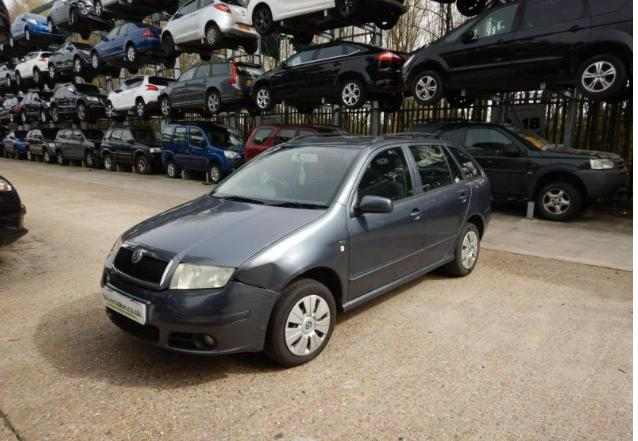Back-bumper: (481, 206, 492, 240)
Back-door: (405, 143, 472, 269)
Back-wheel: (446, 223, 480, 276)
Back-window: (408, 145, 464, 191), (448, 145, 481, 179)
Fender: (230, 201, 350, 305)
Front-bumper: (101, 266, 279, 355)
Front-door: (346, 143, 426, 302), (350, 145, 413, 217)
Front-wheel: (264, 279, 336, 366)
Front-window: (358, 146, 413, 202)
Grille: (110, 239, 180, 289)
Headlight: (169, 262, 238, 290), (105, 237, 123, 269)
Hood: (119, 194, 328, 267)
License-plate: (105, 285, 145, 325)
Mirror: (350, 188, 393, 217)
Quarter-panel: (446, 173, 491, 257)
Rocker-panel: (342, 254, 455, 312)
Roof: (287, 138, 425, 145)
Windshield: (211, 144, 366, 208)
